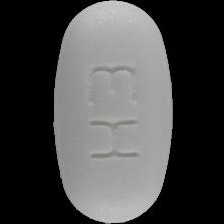43063-569: (0, 0, 224, 224)
